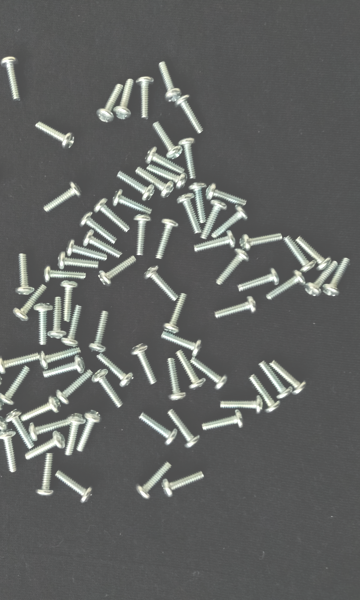shortscrew: (136, 461, 173, 499), (139, 412, 179, 447), (270, 360, 308, 396), (55, 369, 93, 405), (55, 470, 94, 505), (260, 361, 294, 400), (13, 284, 47, 323), (168, 409, 201, 449), (93, 198, 130, 233), (96, 354, 134, 388), (216, 248, 249, 287), (249, 375, 282, 414), (135, 167, 176, 198), (143, 266, 179, 301), (212, 205, 249, 239), (283, 236, 317, 273), (296, 237, 333, 271), (153, 121, 185, 160), (43, 182, 83, 213), (176, 350, 207, 390), (161, 471, 205, 499), (26, 431, 67, 461), (191, 357, 228, 390), (80, 212, 117, 245), (98, 255, 136, 287), (174, 95, 204, 135), (93, 370, 124, 408), (131, 342, 159, 384), (267, 270, 307, 299), (306, 260, 337, 297), (33, 122, 75, 149), (96, 83, 124, 123), (82, 230, 122, 258), (238, 266, 281, 292), (77, 410, 103, 453), (144, 146, 185, 173), (117, 172, 155, 201), (200, 200, 227, 240), (43, 354, 86, 379), (148, 165, 189, 191), (324, 258, 351, 297), (158, 61, 183, 103), (28, 418, 70, 443), (21, 397, 61, 423), (36, 453, 59, 498), (215, 296, 258, 320), (163, 293, 188, 334), (161, 332, 202, 357), (206, 183, 248, 207), (1, 55, 23, 100), (89, 310, 111, 355), (61, 305, 84, 348), (194, 230, 236, 253), (177, 193, 200, 235), (178, 137, 200, 180), (202, 410, 245, 432), (64, 413, 86, 456), (66, 239, 108, 261), (113, 190, 153, 213), (166, 358, 187, 401), (156, 218, 178, 259), (40, 347, 81, 369), (0, 352, 39, 375), (113, 79, 135, 119), (240, 232, 283, 252), (221, 395, 264, 415), (48, 296, 68, 339), (34, 302, 53, 346), (135, 76, 154, 119), (134, 214, 153, 257), (60, 280, 79, 323), (0, 429, 18, 474), (187, 182, 206, 224), (15, 254, 34, 296), (58, 252, 99, 270), (43, 268, 86, 283), (0, 415, 10, 454), (0, 394, 8, 427), (0, 371, 2, 410)
